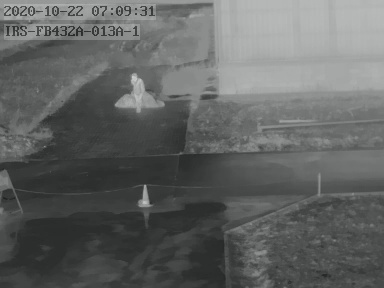person: (130, 72, 145, 113)
